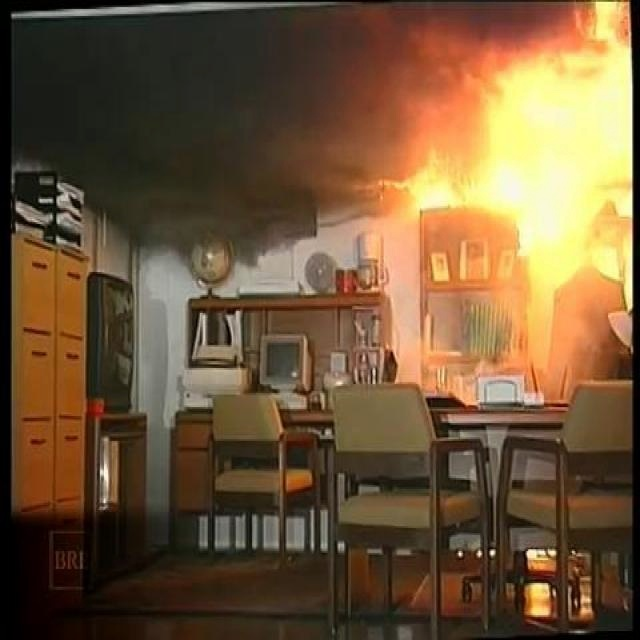fire: (420, 6, 632, 193)
smoke: (12, 11, 382, 221)
